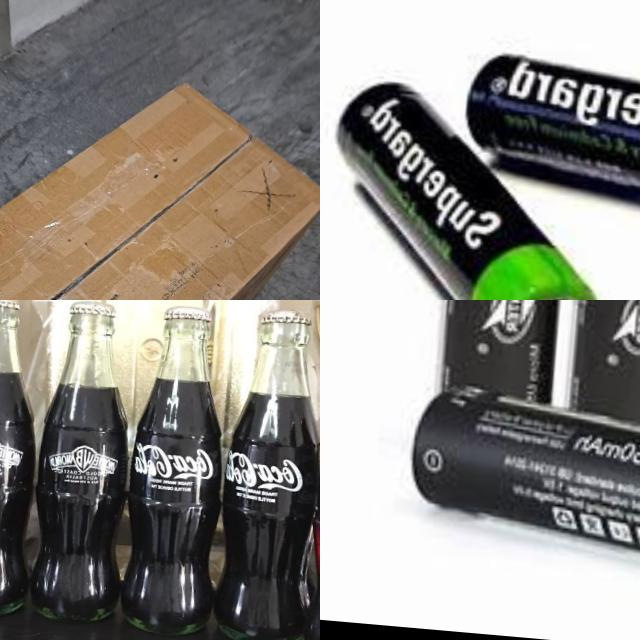bateria: (320, 72, 623, 300), (399, 388, 640, 585), (455, 47, 640, 234), (436, 300, 575, 410)
garrafa de vidro: (110, 300, 240, 640), (21, 300, 146, 627), (206, 304, 320, 640), (0, 300, 59, 623)
papelão: (0, 60, 320, 300)
